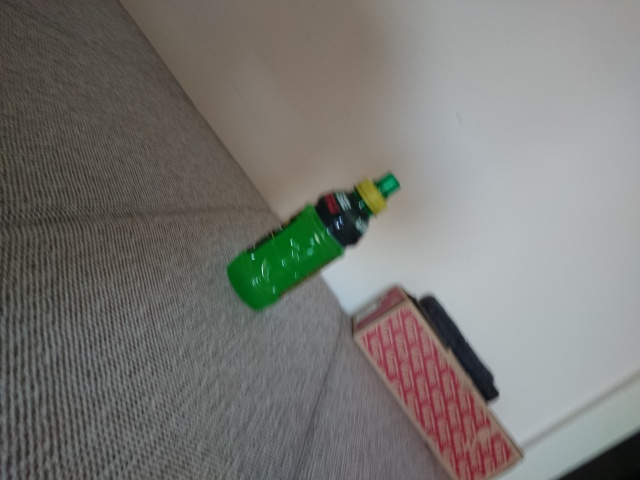Vindi Iso Sport Lemon-Grapefruit 500mL: (224, 168, 403, 314)
